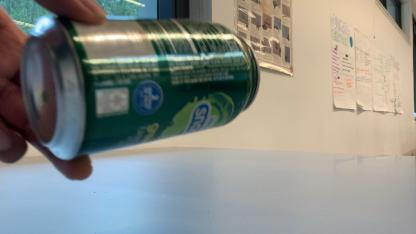Can: (6, 15, 262, 170)
